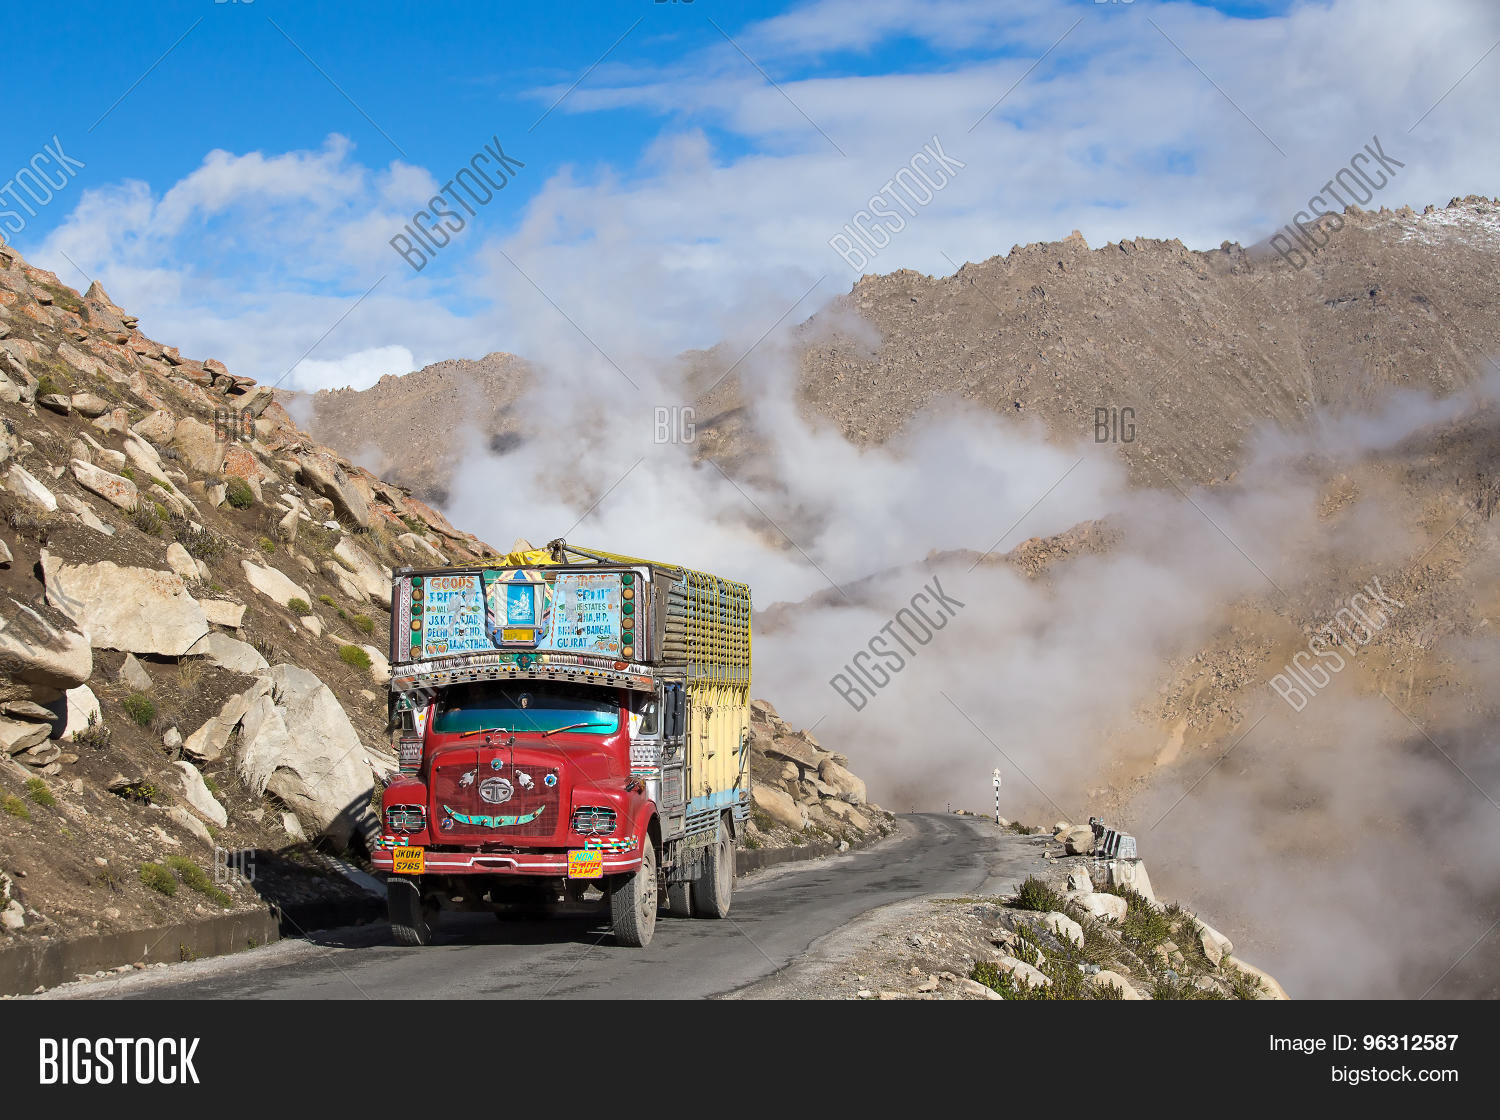truck: (384, 551, 738, 951)
